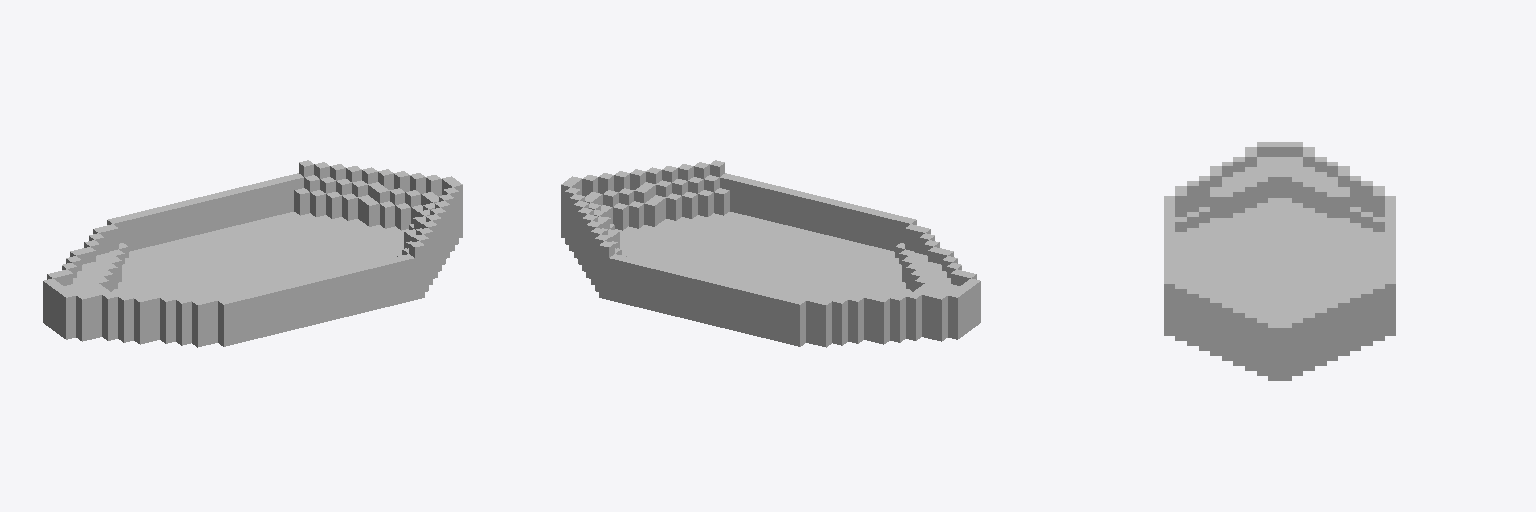
Rendered from boat.obj.
3 renders of one model, left to right at view 1: azimuth 30°, elevation 25°; view 2: azimuth 150°, elevation 25°; view 3: azimuth 270°, elevation 25°, orthographic.
Visible parts, largest first — view 1: object 1; view 2: object 1; view 3: object 1.
Part boxes in pixels (x1,y1,x2,y2): object 1: (43, 160, 462, 347); object 1: (561, 160, 980, 347); object 1: (1164, 142, 1395, 380).
Size of the model in its own units: 4 by 0.5 by 2.